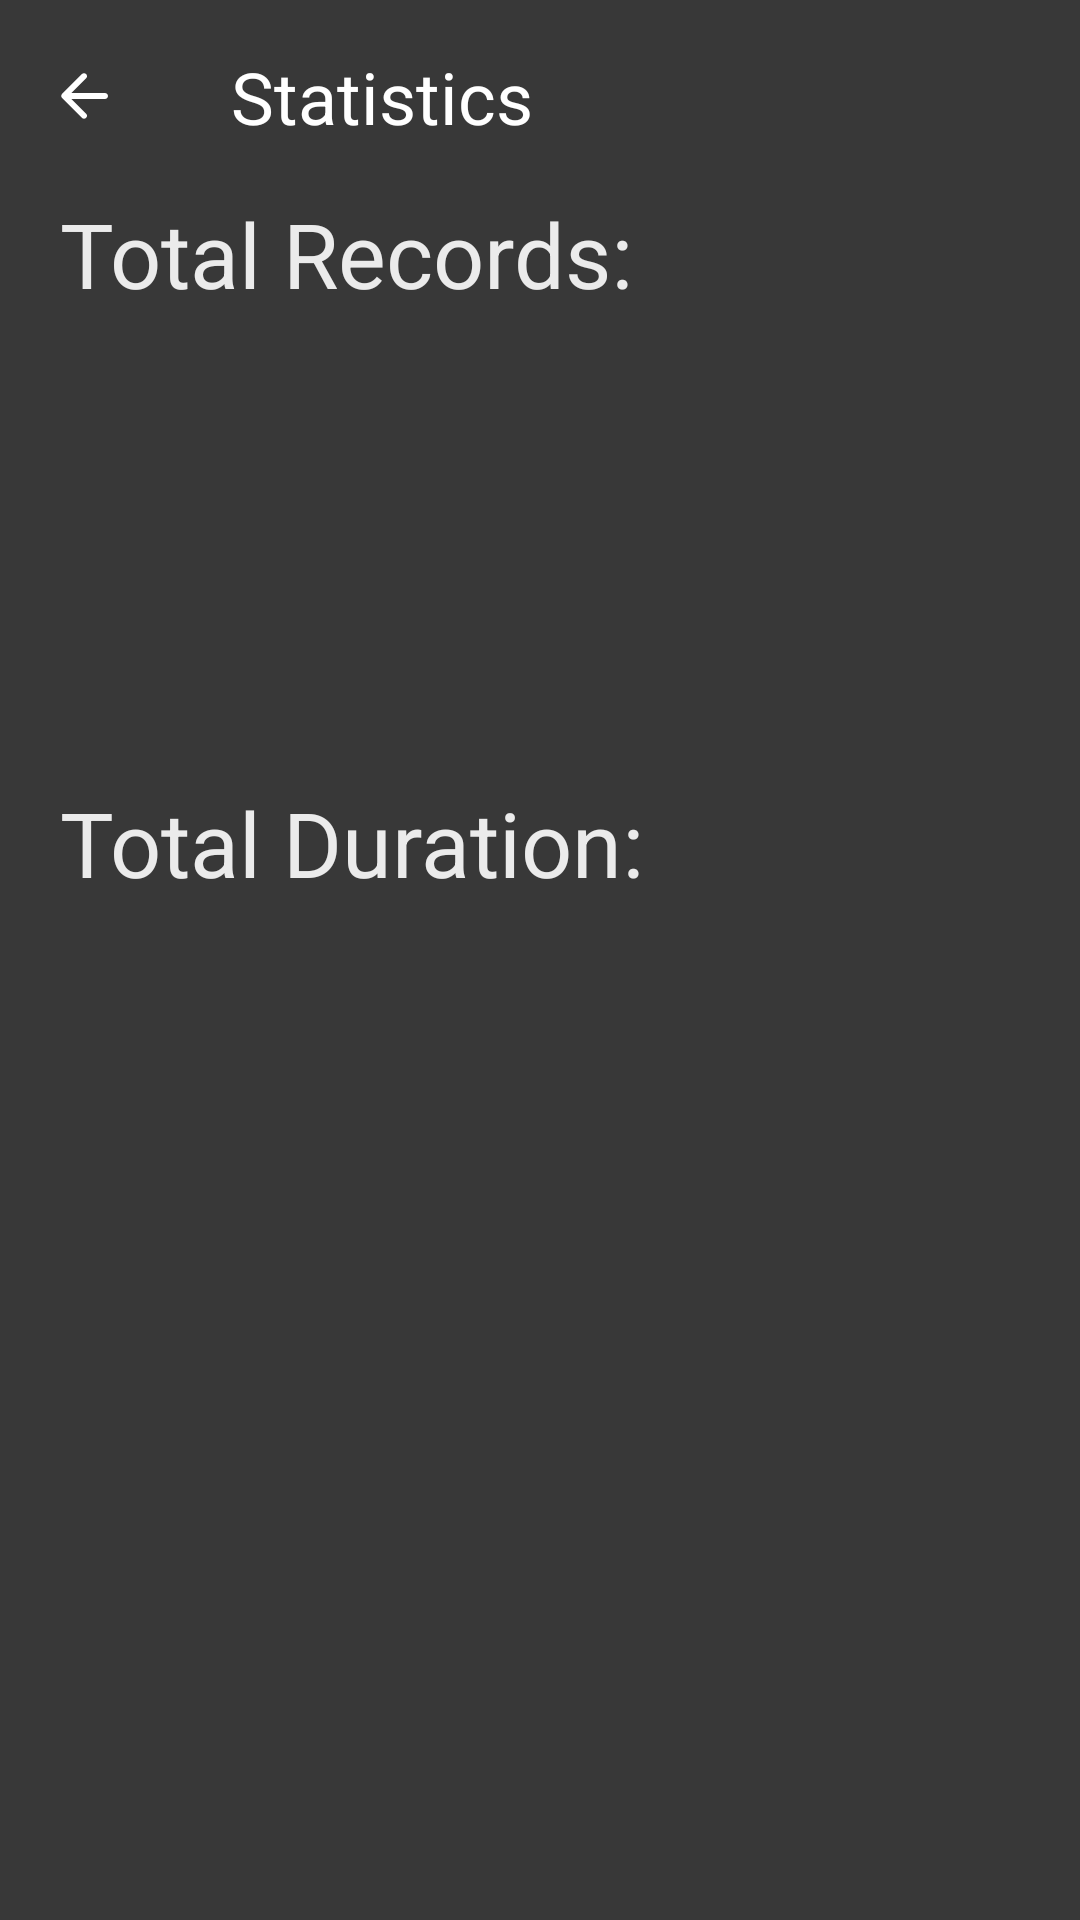

Icon bounding boxes for this 1080w x 1920h phone screenshot, format [x1,y1,x2,y2]:
Back Button: [61,73,108,119]
